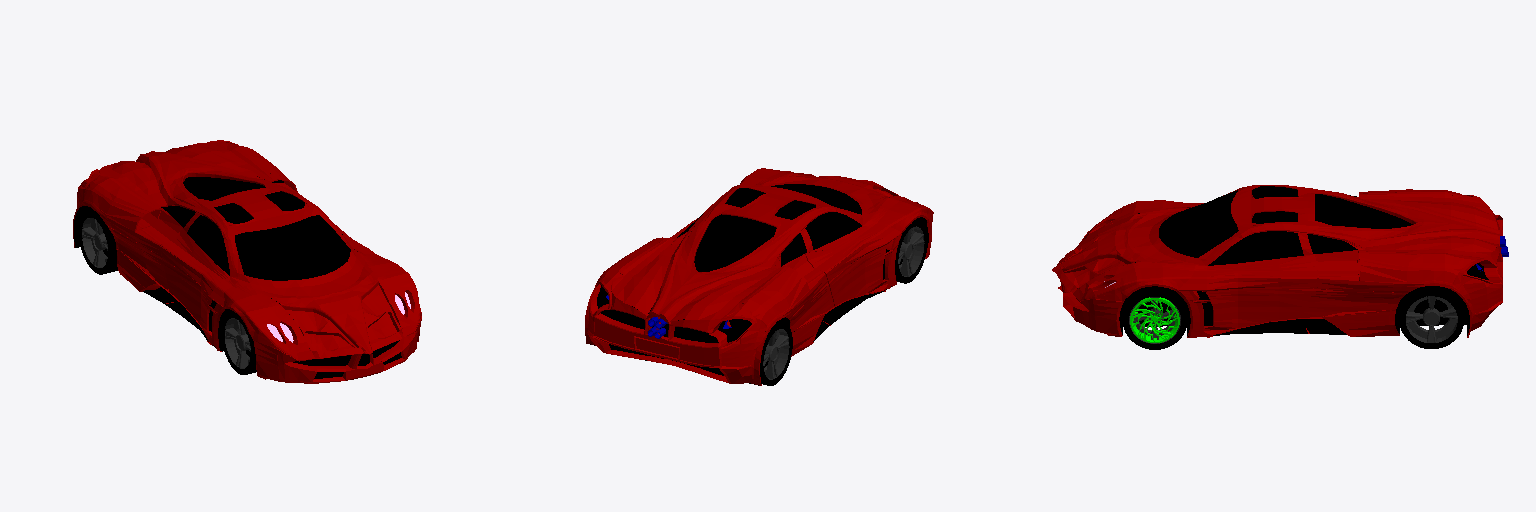
Rendered from tire.obj.
3 renders of one model, left to right at view 1: azimuth 30°, elevation 25°; view 2: azimuth 150°, elevation 25°; view 3: azimuth 270°, elevation 25°, orthographic.
Parts seen in each view (by area): view 1: Plane.002, Plane.004, Cylinder.001_Cylinder.008, Plane.003, Cylinder.003_Cylinder.009; view 2: Plane.002, Plane.004, Plane.003, Cylinder.001_Cylinder.008, Cylinder.003_Cylinder.009; view 3: Plane.002, Plane.004, Cylinder.000_Cylinder.007, Plane.003, Cylinder.002_Cylinder.001, Mesh_Mesh_head_geo.001_lambert2SG.001, Plane.005.
Part boxes in pixels (x1,y1,x2,y2): Plane.002: (73, 140, 421, 383); Plane.004: (161, 177, 350, 280); Cylinder.001_Cylinder.008: (79, 210, 117, 274); Plane.003: (143, 180, 401, 378); Cylinder.003_Cylinder.009: (221, 311, 256, 374); Plane.002: (585, 168, 933, 385); Plane.004: (677, 184, 861, 271); Plane.003: (597, 217, 928, 375); Cylinder.001_Cylinder.008: (760, 321, 792, 385); Cylinder.003_Cylinder.009: (895, 220, 927, 283); Plane.002: (1052, 185, 1502, 337); Plane.004: (1159, 186, 1412, 265); Cylinder.000_Cylinder.007: (1399, 286, 1463, 348); Plane.003: (1119, 213, 1488, 336); Cylinder.002_Cylinder.001: (1122, 286, 1187, 349); Mesh_Mesh_head_geo.001_lambert2SG.001: (1130, 297, 1179, 342); Plane.005: (1395, 299, 1469, 335).
Bounding box in the file's own units: 8.52 × 4.87 × 19.33.